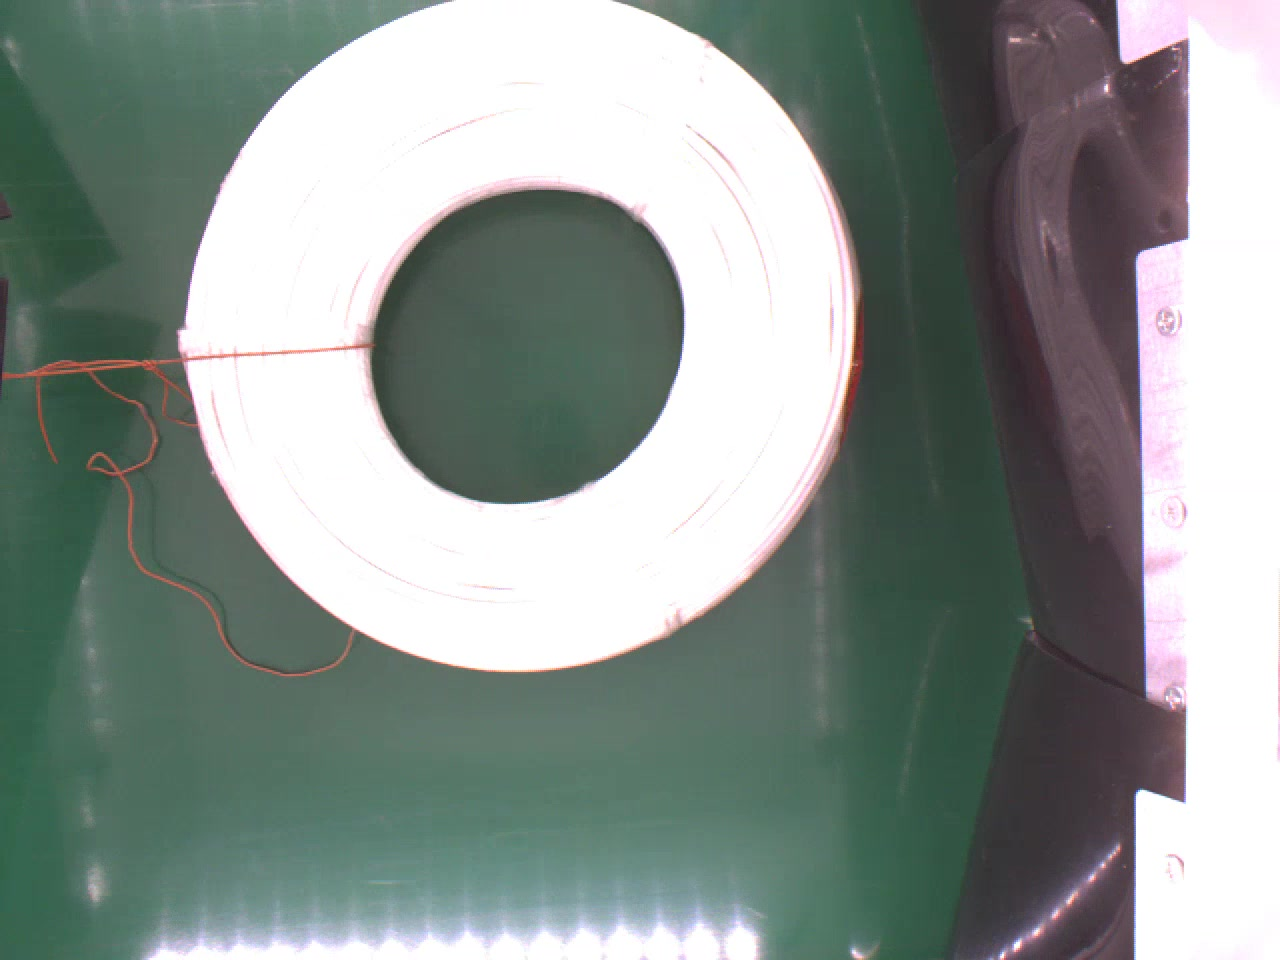white: (181, 2, 875, 675)
